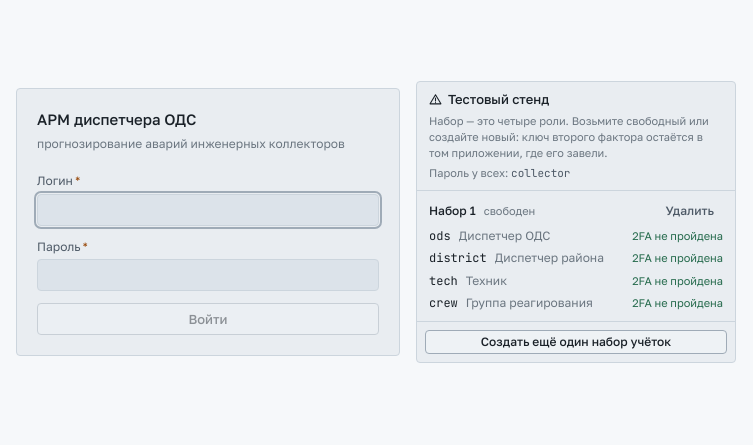
Test case: панель тестового стенда › удаляет набор целиком
Click the button "Создать ещё один набор учёток" at (576,342), box [425,330,727,354]
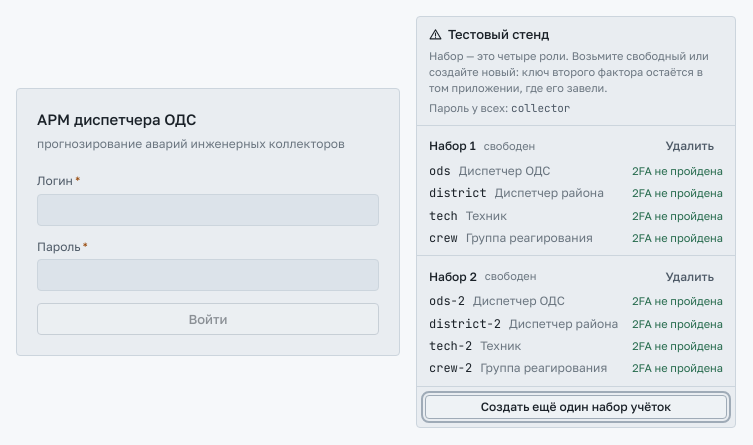
Click the button with aria-label "Удалить набор 2" at (690,276), box [657,264,723,288]
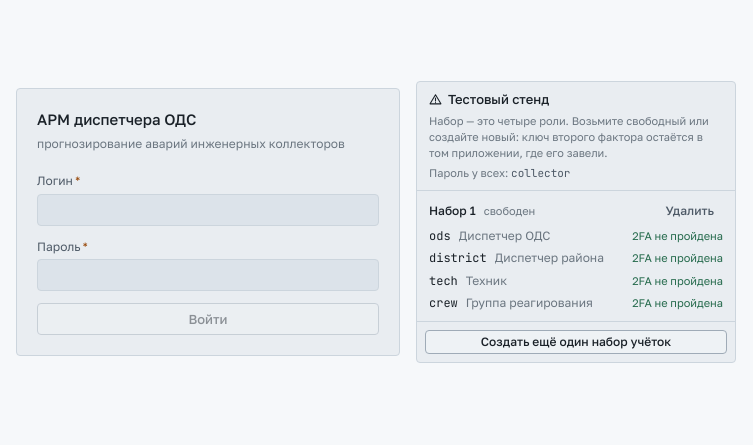
Expected: the text "ods-2" is gone
